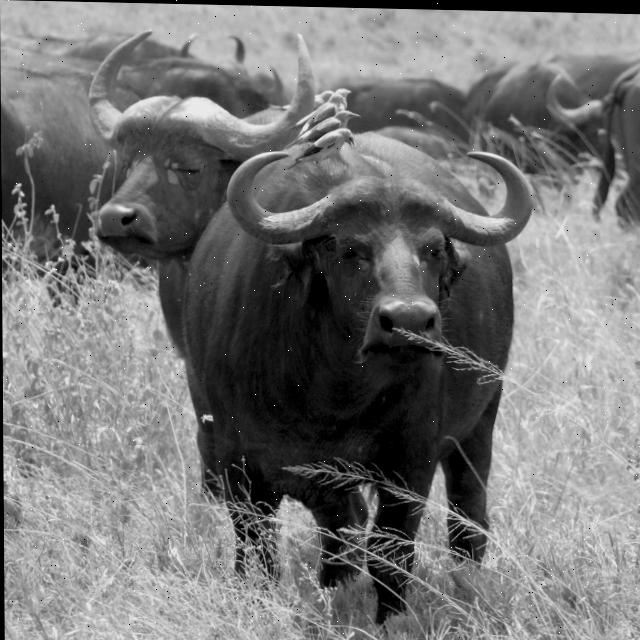Buffalo: (181, 125, 536, 625), (87, 32, 331, 358)
